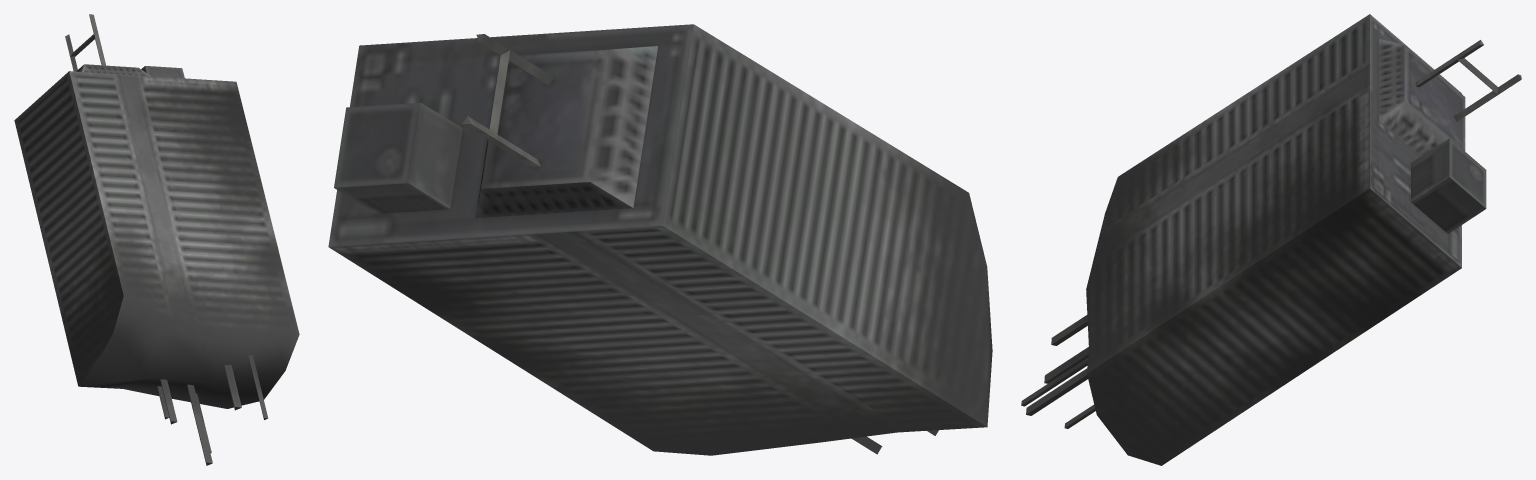
File: skyBuildingAAC_pos_grp (2).fbx
The picture shows the model from 3 angles, left to right: view 1: azimuth 30°, elevation 25°; view 2: azimuth 150°, elevation 25°; view 3: azimuth 270°, elevation 25°; orthographic projection. The views are drawn at different scales.
Parts seen in each view (by area): view 1: skyBuildingAAC_geo; view 2: skyBuildingAAC_geo; view 3: skyBuildingAAC_geo.
Part boxes in pixels (bbox=[...]): skyBuildingAAC_geo: bbox=[14, 14, 299, 465]; skyBuildingAAC_geo: bbox=[328, 24, 992, 455]; skyBuildingAAC_geo: bbox=[1021, 14, 1521, 465].
Bounding box in the file's own units: 7.25 × 9.27 × 10.15.
